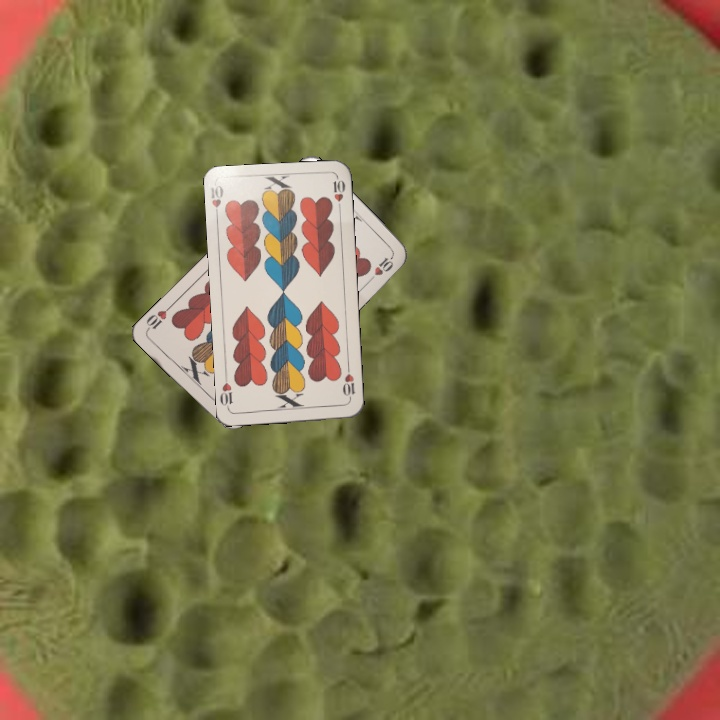H10: (207, 181, 226, 222), (339, 363, 357, 403)
